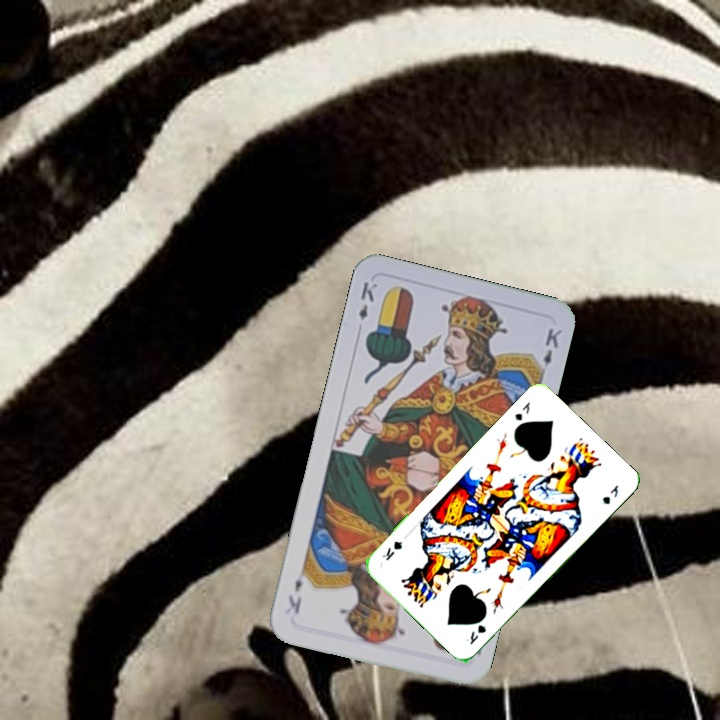EK: (354, 277, 380, 323)
GK: (462, 621, 489, 647), (510, 398, 533, 423)
